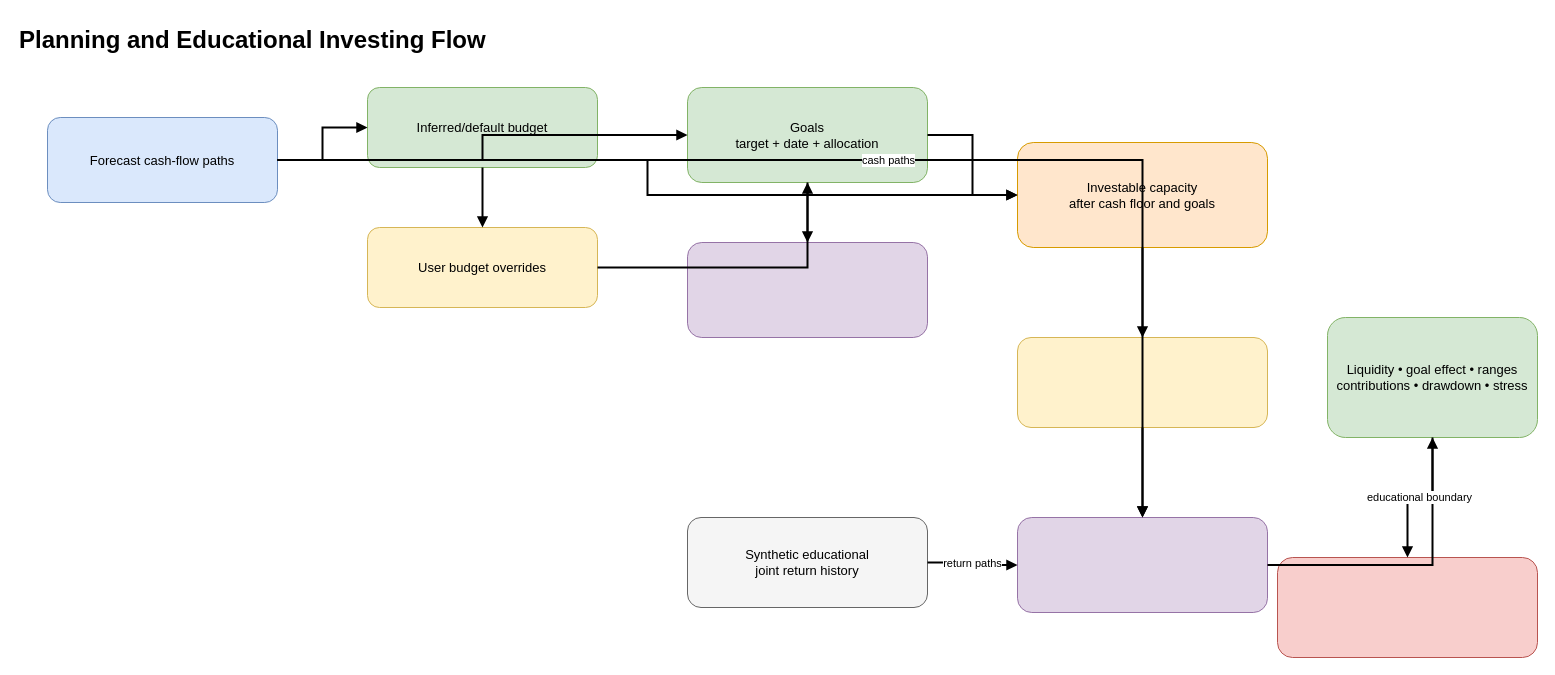
This 1555x675 diagram has some shape labels left out. Each missing label, with the box of its shape:
Combined cash + portfolio Monte Carlo simulation: (1016, 516, 1268, 612)
Intervention comparison change category behaviour: (686, 242, 928, 338)
No trade execution No guaranteed forecast No product recommendation: (1276, 556, 1538, 658)
Portfolio + contribution rule: (1016, 336, 1268, 428)
